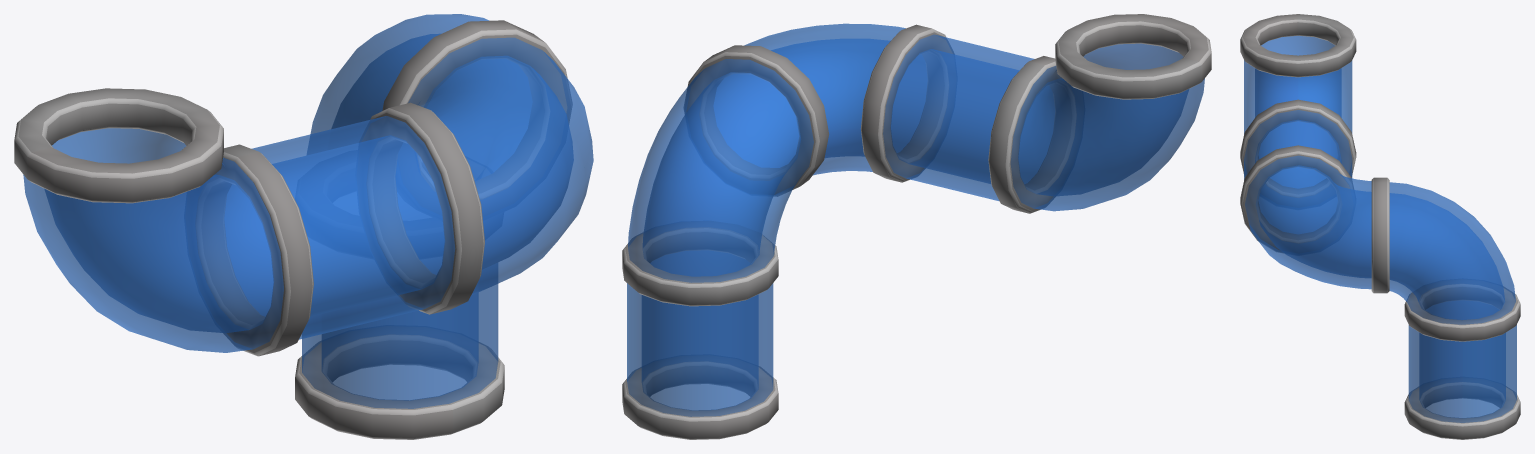
3 renders of one model, left to right at view 1: azimuth 30°, elevation 25°; view 2: azimuth 150°, elevation 25°; view 3: azimuth 270°, elevation 25°, orthographic. The views are drawn at different scales.
Parts seen in each view (by area): view 1: Tube2; view 2: Tube2; view 3: Tube2.
Boxes of the visible parts, x1=… form: Tube2: x1=14, y1=14, x2=593, y2=439; Tube2: x1=622, y1=14, x2=1211, y2=439; Tube2: x1=1240, y1=14, x2=1520, y2=439.
Size of the model in its own units: 10.75 by 8.06 by 7.76.
2 materials, 2 textured.
